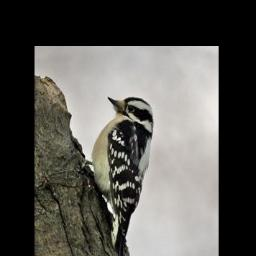Woodpecker: (70, 92, 156, 256)
